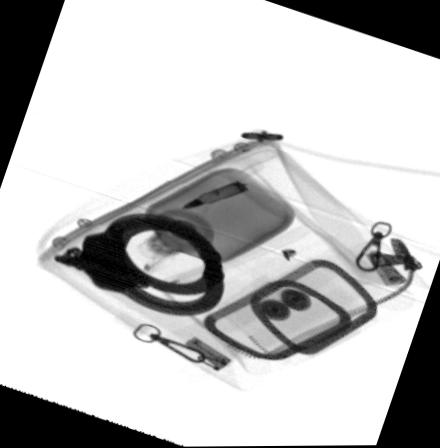Bullet: (180, 181, 251, 206)
HandCuffs: (47, 215, 229, 318)
